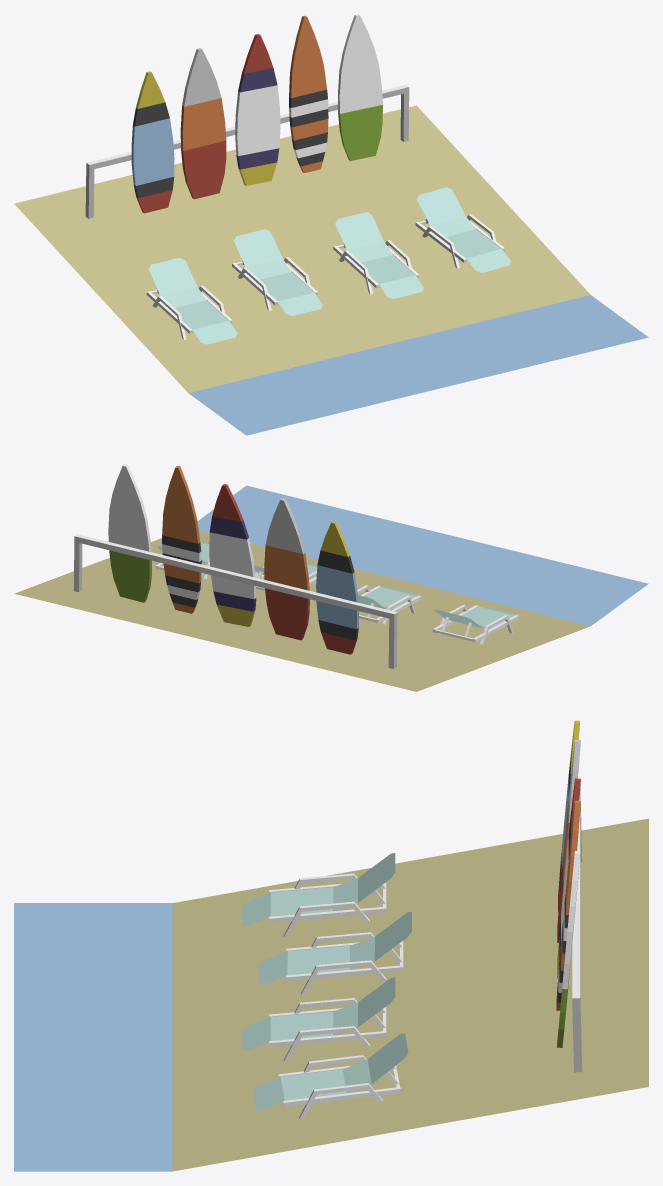
File: beach_tile_1x1_004.fbx
The picture shows the model from 3 angles, top to bottom: view 1: azimuth 30°, elevation 25°; view 2: azimuth 150°, elevation 25°; view 3: azimuth 270°, elevation 25°; orthographic projection. The views are drawn at different scales.
Visible parts, largest first — view 1: beach_tile_1x1_004; view 2: beach_tile_1x1_004; view 3: beach_tile_1x1_004.
Boxes of the visible parts, bbox=[...] form: beach_tile_1x1_004: bbox=[14, 14, 648, 435]; beach_tile_1x1_004: bbox=[14, 464, 648, 691]; beach_tile_1x1_004: bbox=[14, 720, 648, 1171].
Bounding box in the file's own units: 800 × 387 × 800.
